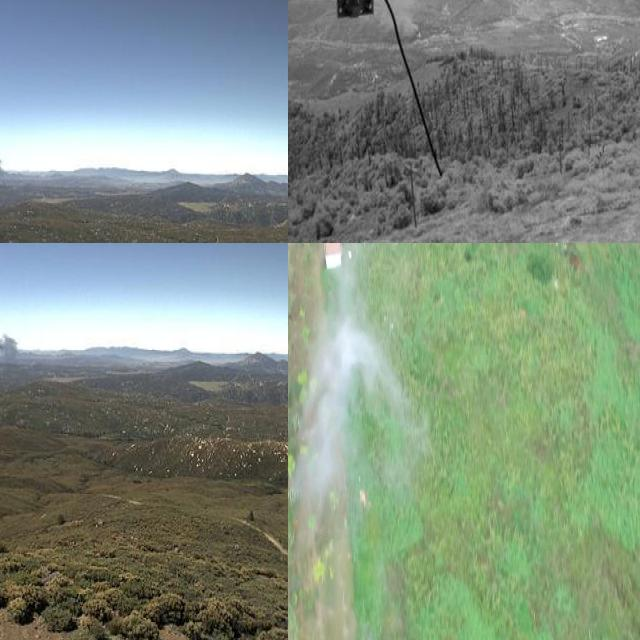smoke: (294, 320, 413, 517), (377, 0, 418, 38), (0, 311, 21, 367)
